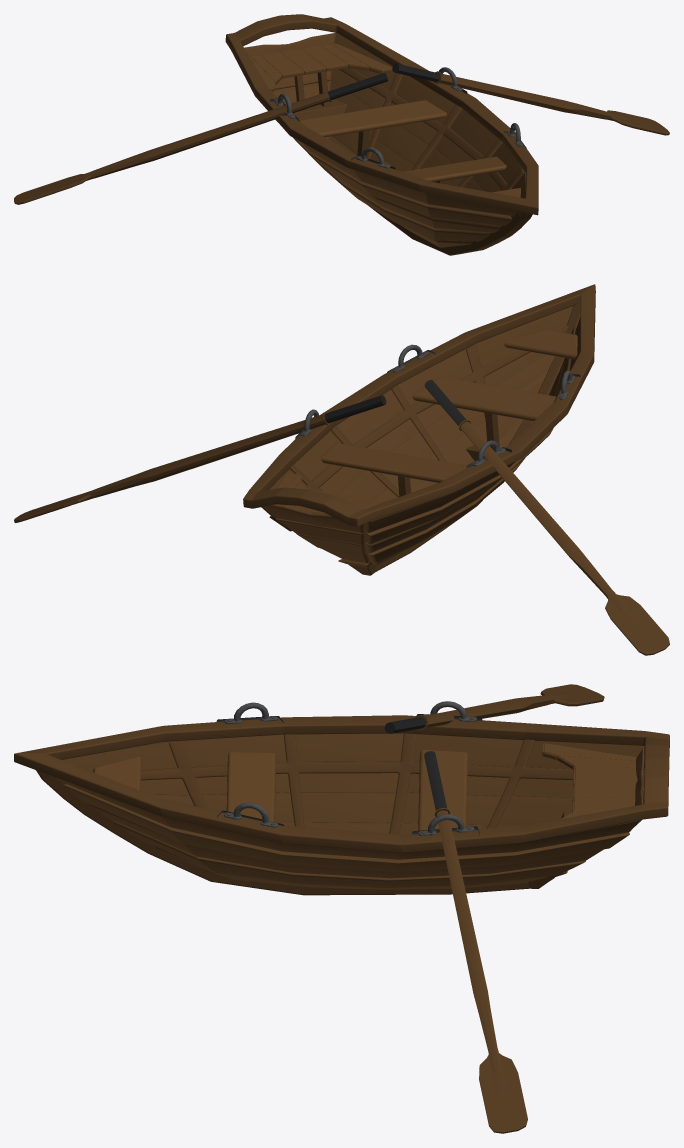
The model's file is boat.fbx.
3 views of the same model, one above another, from view 1: azimuth 30°, elevation 25°; view 2: azimuth 150°, elevation 25°; view 3: azimuth 270°, elevation 25° (orthographic). The views are drawn at different scales.
Parts seen in each view (by area): view 1: outer shell, wood 4, seat with beam, handle.001, inner frame, handle, seat with beam.001, wood 4.001; view 2: outer shell, wood 4, seat with beam, handle.001, inner frame, handle, wood 4.001, seat with beam.001; view 3: outer shell, wood 4, inner frame, seat with beam, handle, handle.001, wood 4.001.
Part boxes in pixels (x1,y1,x2,y2): outer shell: (244,32,525,247); wood 4: (225,14,538,215); seat with beam: (250,43,520,197); handle.001: (14,72,387,204); inner frame: (328,68,532,255); handle: (392,63,669,135); seat with beam.001: (294,71,446,184); wood 4.001: (273,67,523,168); outer shell: (261,306,580,565); wood 4: (243,284,595,526); seat with beam: (278,329,577,512); handle.001: (424,380,669,655); inner frame: (289,299,580,575); handle: (14,395,386,522); wood 4.001: (300,344,575,466); seat with beam.001: (398,412,500,496); outer shell: (55,733,644,889); wood 4: (14,714,669,853); inner frame: (36,733,573,895); seat with beam: (93,743,637,830); handle: (424,751,527,1133); handle.001: (384,684,604,733); wood 4.001: (224,701,476,835).
Size of the model in its own units: 1210 by 321 by 893.
